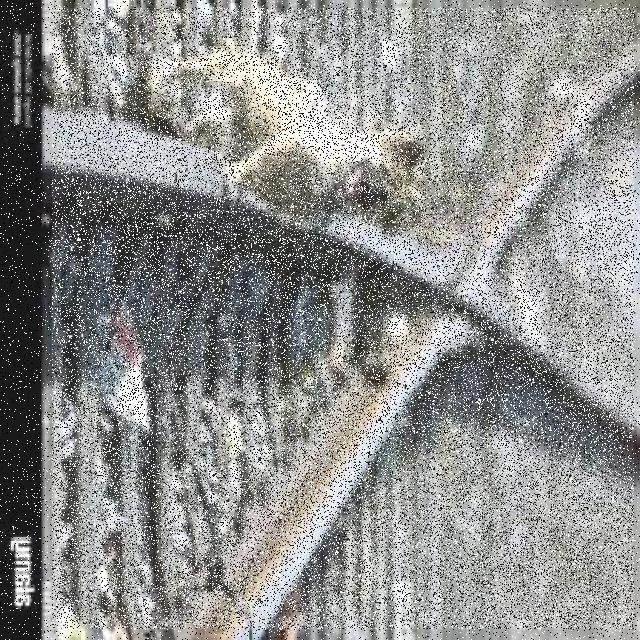rail: (53, 9, 635, 630)
